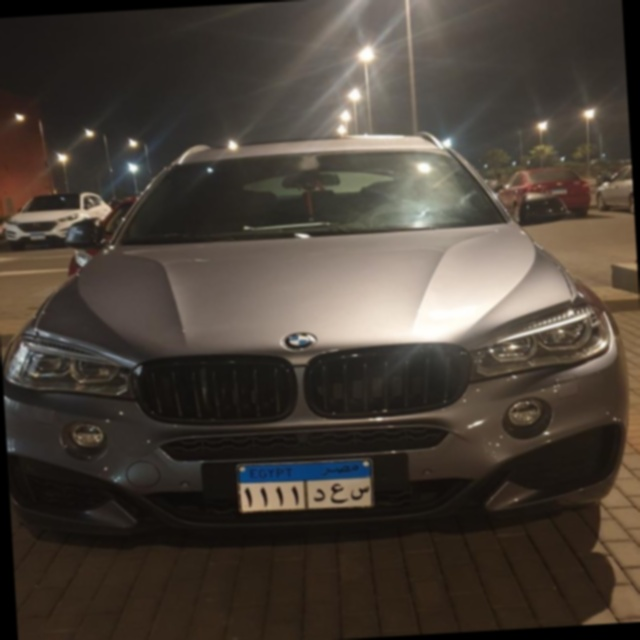License Plate: (233, 455, 379, 518)
